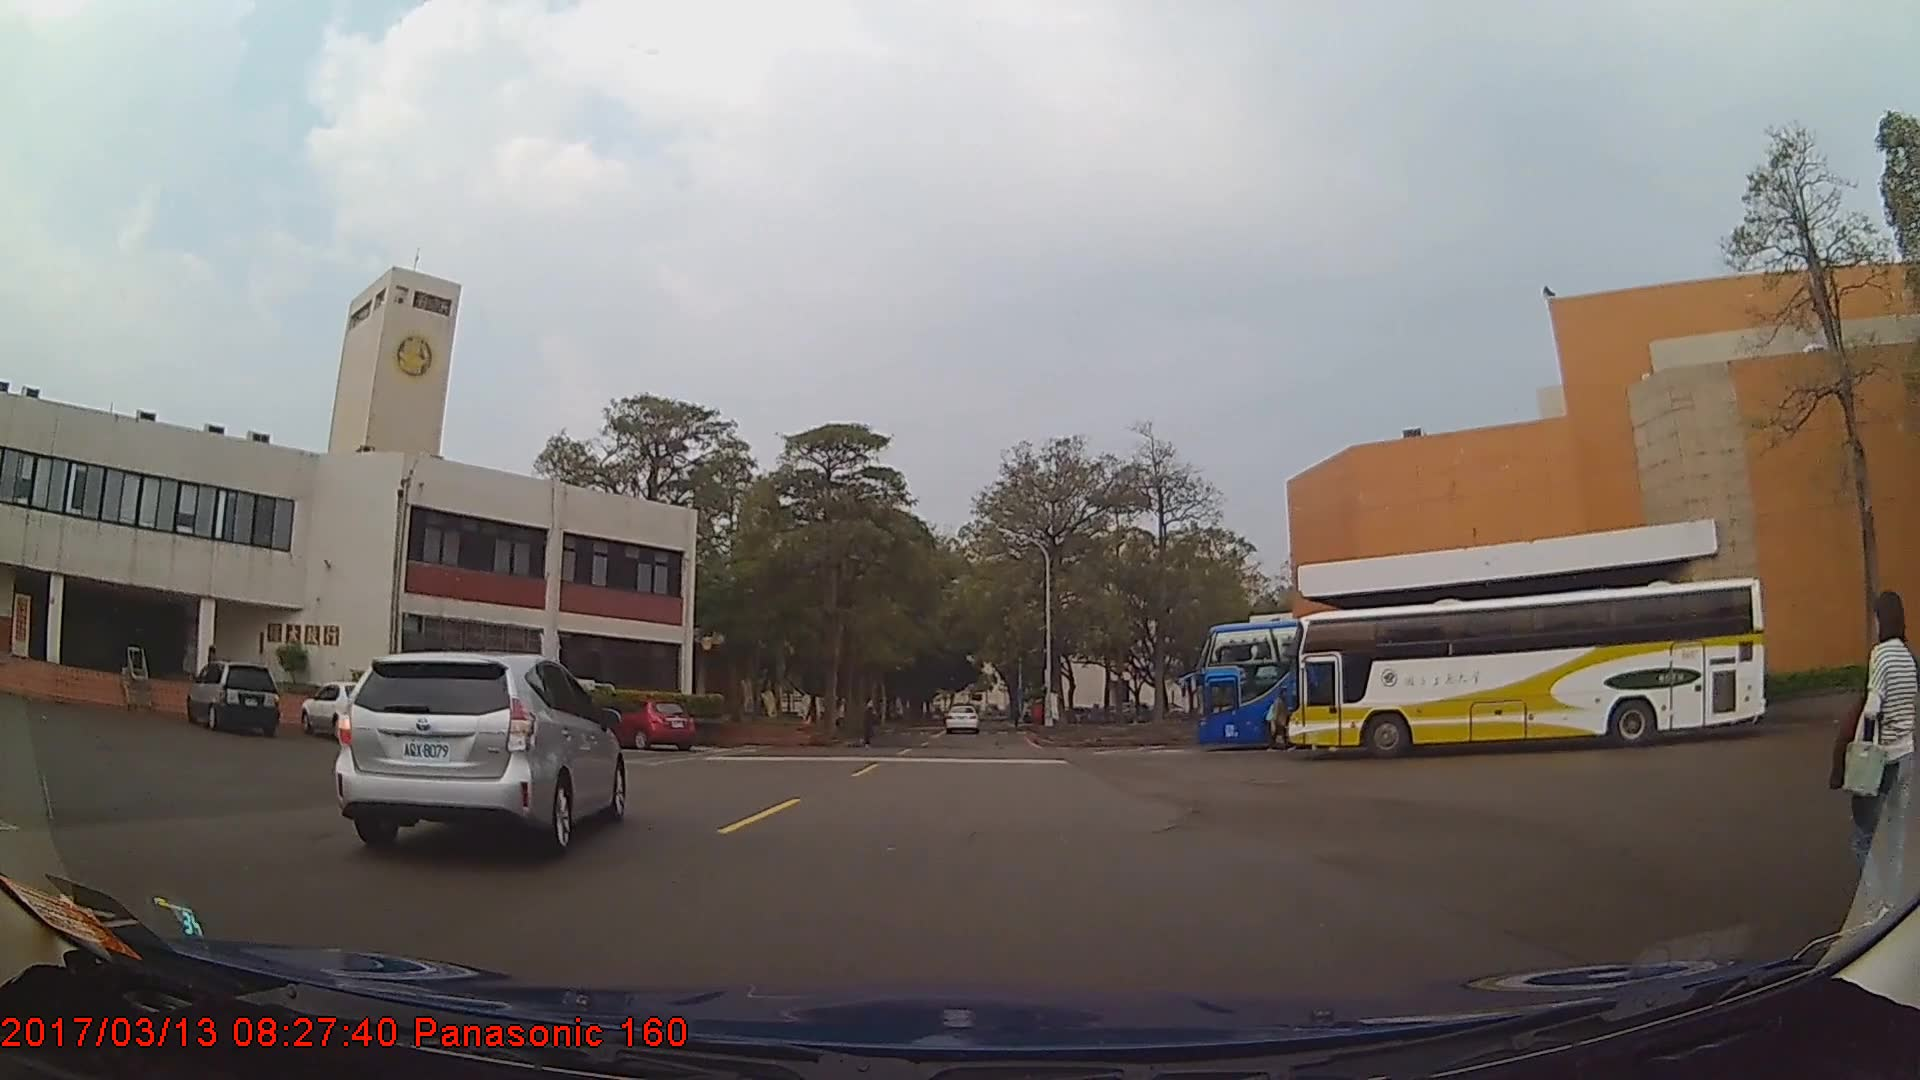pedestrian: (1835, 595, 1920, 936), (856, 691, 879, 745)
vehicle: (1288, 574, 1768, 759), (332, 649, 620, 855), (1196, 621, 1629, 751), (184, 660, 276, 734), (300, 680, 388, 744), (609, 698, 693, 752), (945, 705, 979, 734)
